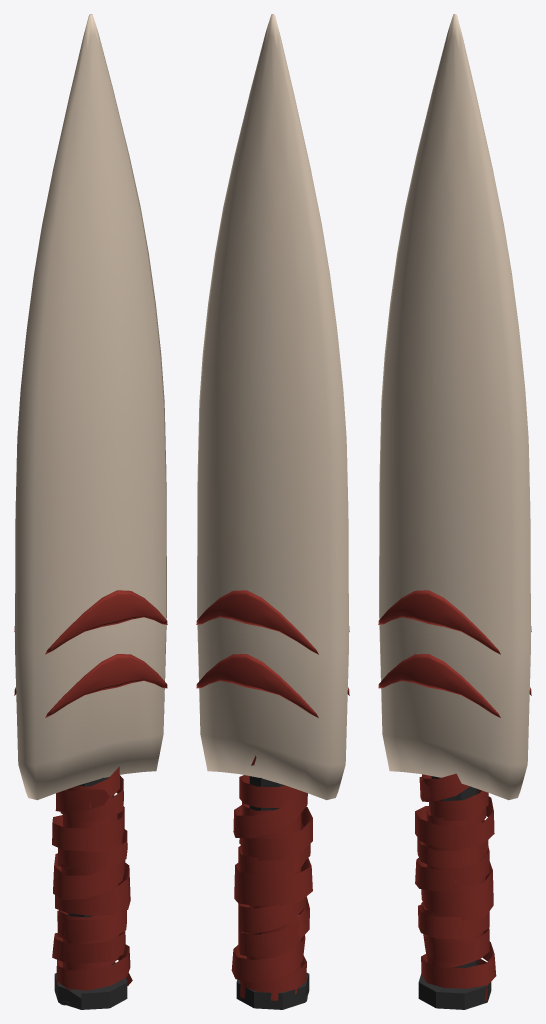
The model's file is couteau.glb.
3 renders of one model, left to right at view 1: azimuth 30°, elevation 25°; view 2: azimuth 150°, elevation 25°; view 3: azimuth 330°, elevation 25°, orthographic.
Parts seen in each view (by area): view 1: Cylinder.002; view 2: Cylinder.002; view 3: Cylinder.002.
Part boxes in pixels (<box>): Cylinder.002: <box>14,14,167,1009</box>; Cylinder.002: <box>196,14,349,1009</box>; Cylinder.002: <box>378,14,531,1009</box>.
Size of the model in its own units: 167 by 1030 by 105.
